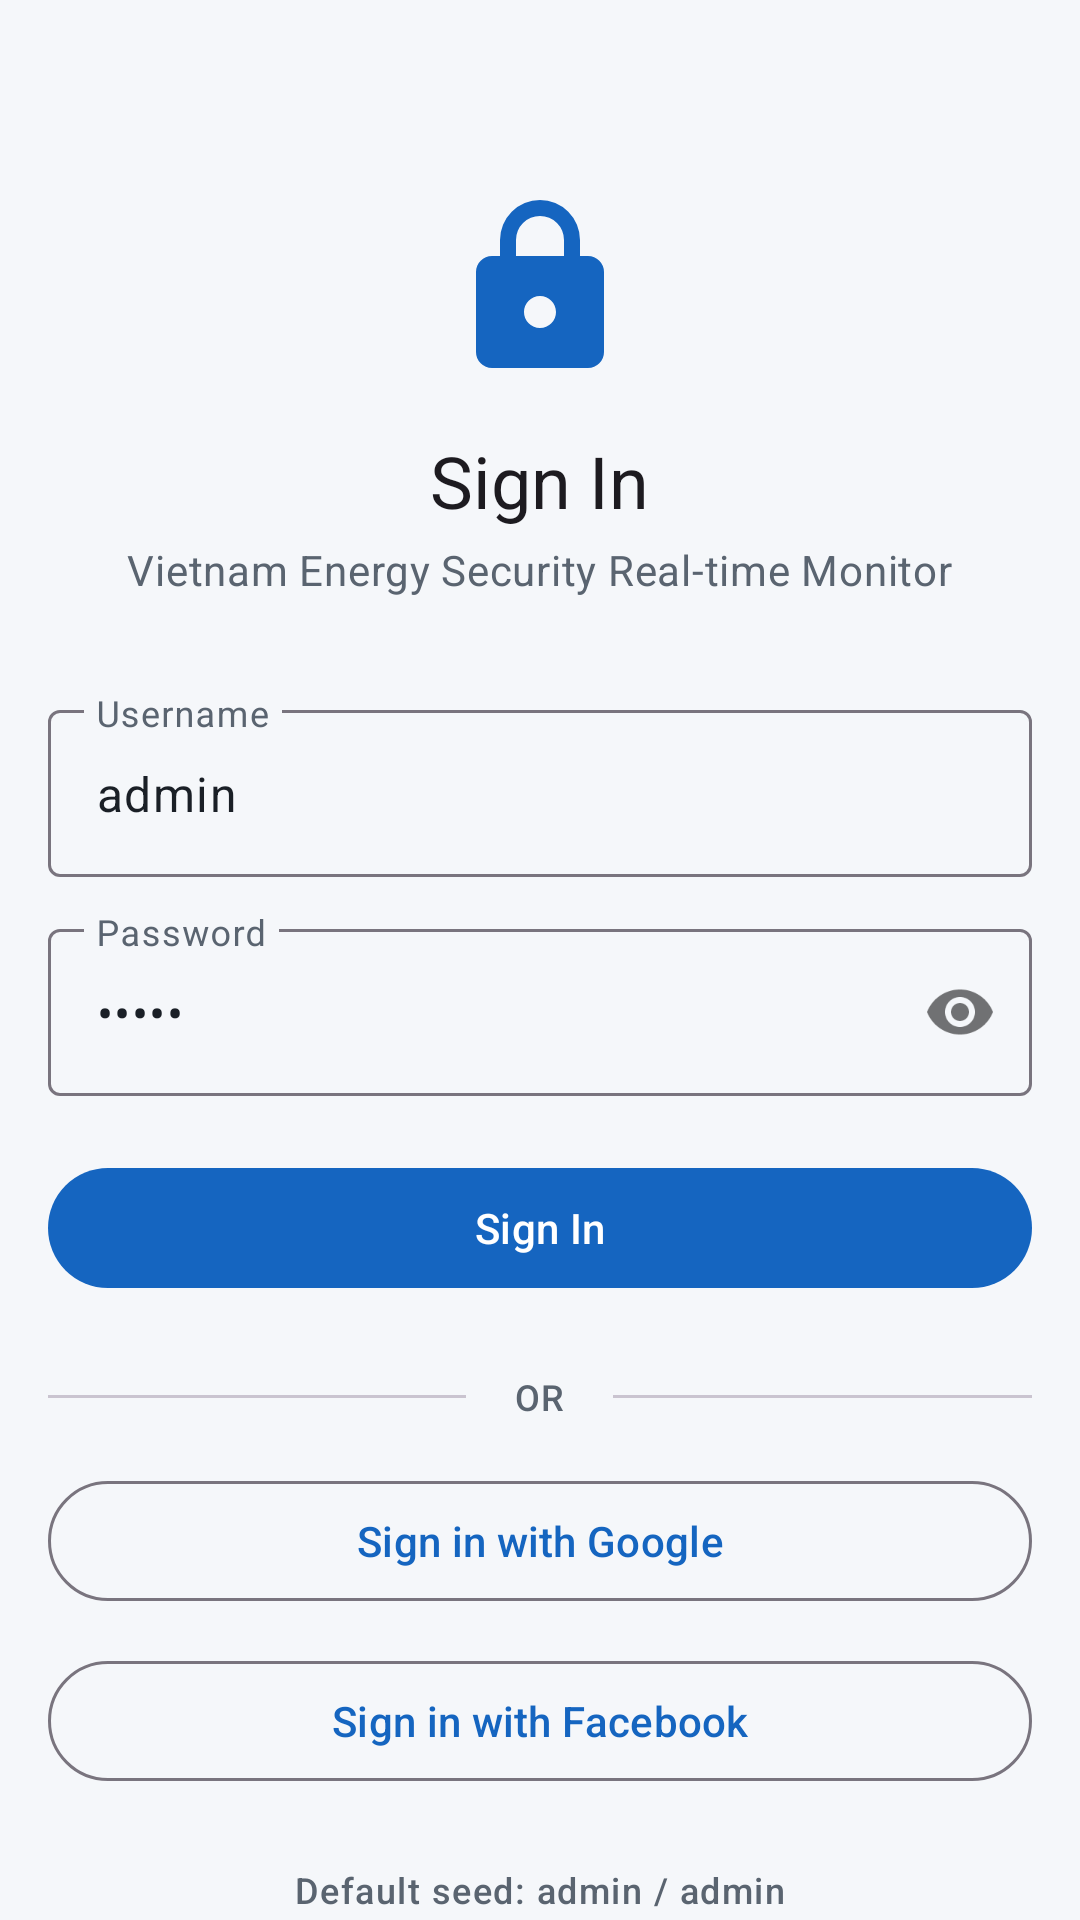

Point at icon controls on the screen. Image size 1080*1920, points as [x,y].
lock: [540,284]
